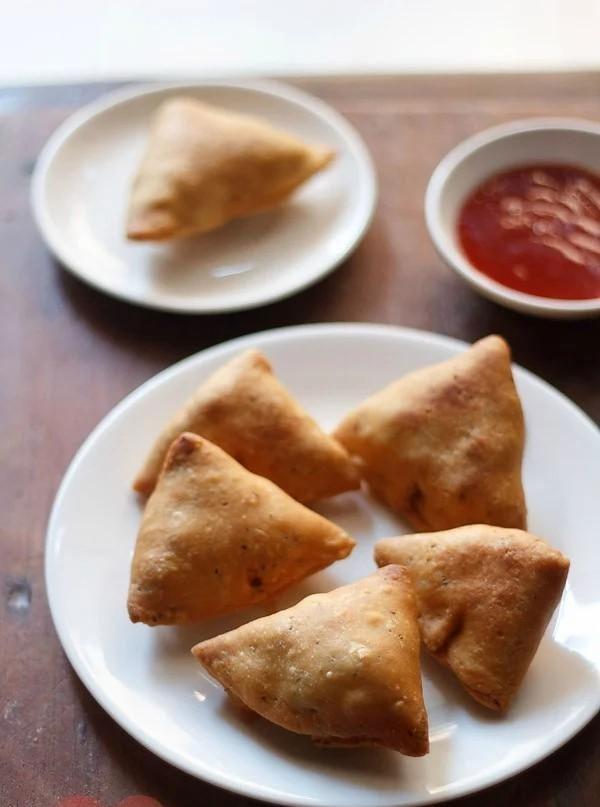Samosa: (189, 554, 434, 769), (125, 429, 354, 633), (371, 525, 573, 725), (129, 349, 363, 508), (346, 333, 531, 532), (115, 97, 339, 245)
